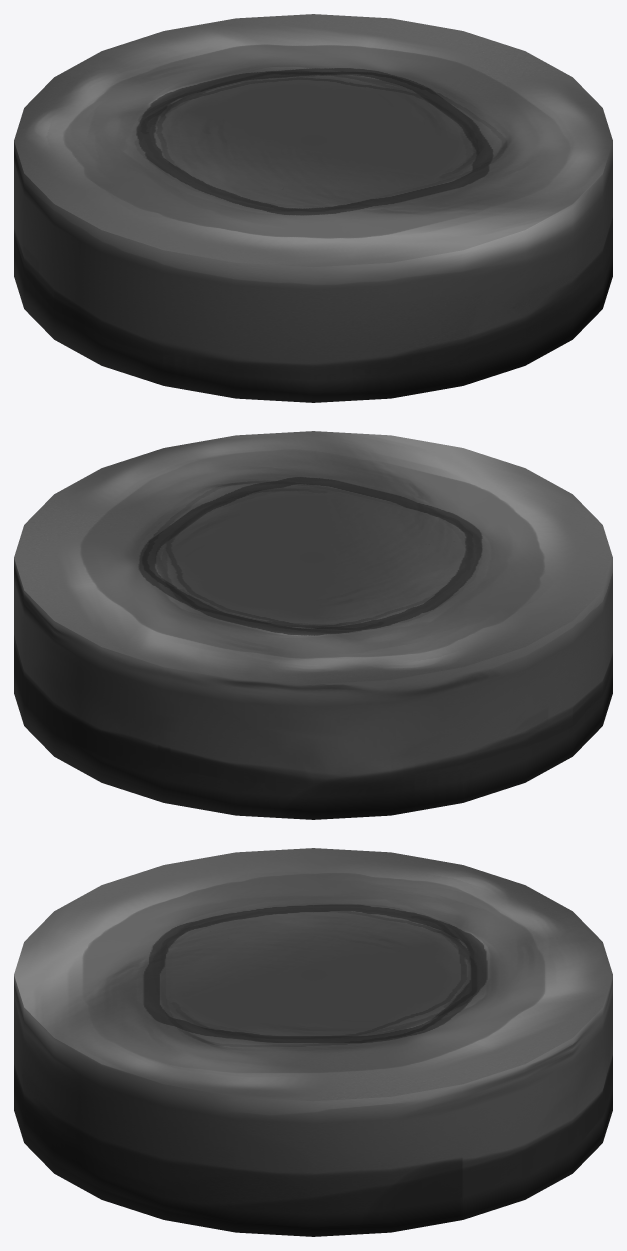
File: Roomba.fbx
The picture shows the model from 3 angles, top to bottom: view 1: azimuth 30°, elevation 25°; view 2: azimuth 150°, elevation 25°; view 3: azimuth 270°, elevation 25°; orthographic projection.
Parts seen in each view (by area): view 1: M_Roomba; view 2: M_Roomba; view 3: M_Roomba.
Boxes of the visible parts, x1,y1,x2,y2 form: M_Roomba: (14, 14, 612, 402); M_Roomba: (14, 431, 612, 819); M_Roomba: (14, 848, 612, 1236).
Bounding box in the file's own units: 0.4267 × 0.1067 × 0.4267.
